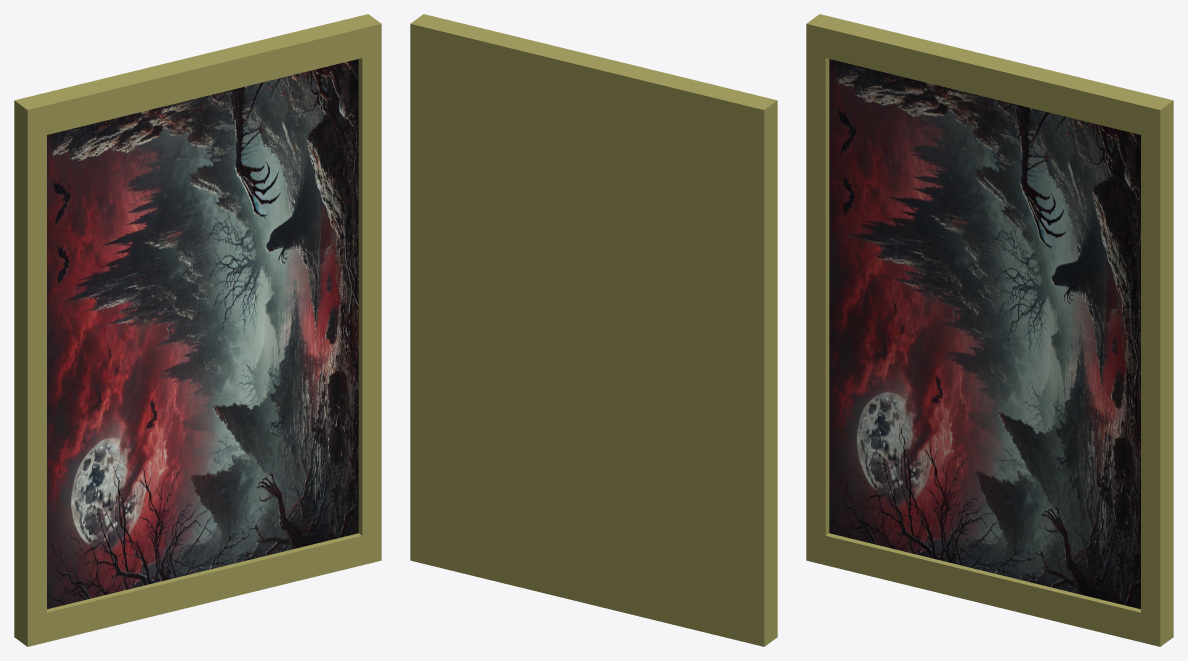
Rendered from picture_5.fbx.
The picture shows the model from 3 angles, left to right: view 1: azimuth 30°, elevation 25°; view 2: azimuth 150°, elevation 25°; view 3: azimuth 330°, elevation 25°; orthographic projection.
Visible parts, largest first — view 1: Picture; view 2: Picture; view 3: Picture.
Boxes of the visible parts, left/top/right/bottom form: Picture: left=14, top=14, right=381, bottom=646; Picture: left=410, top=14, right=777, bottom=646; Picture: left=806, top=14, right=1173, bottom=646.
Size of the model in its own units: 200 by 290 by 13.09.
